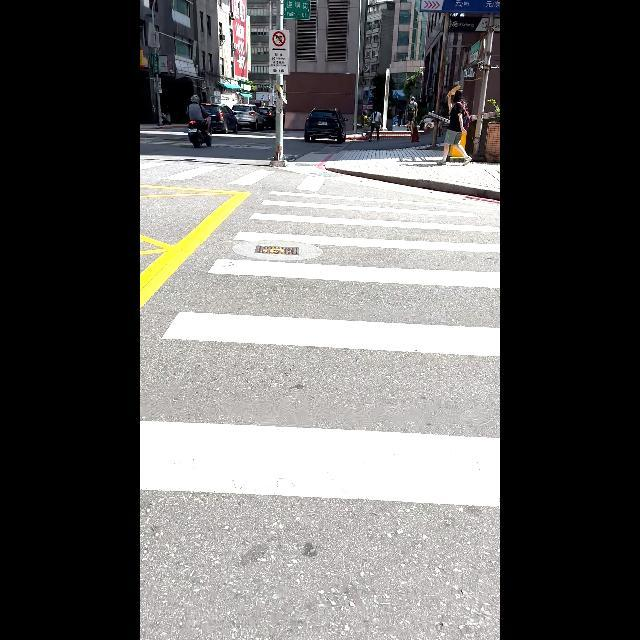sidewalk: (140, 190, 500, 640)
